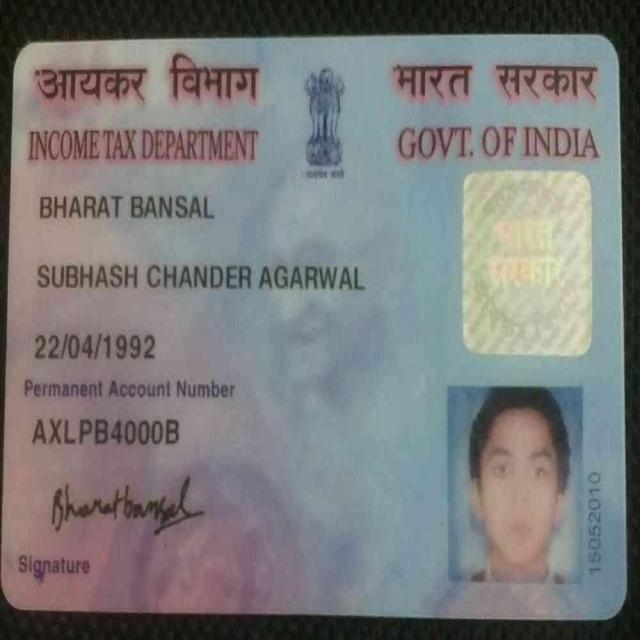pan_card: (6, 41, 620, 618)
